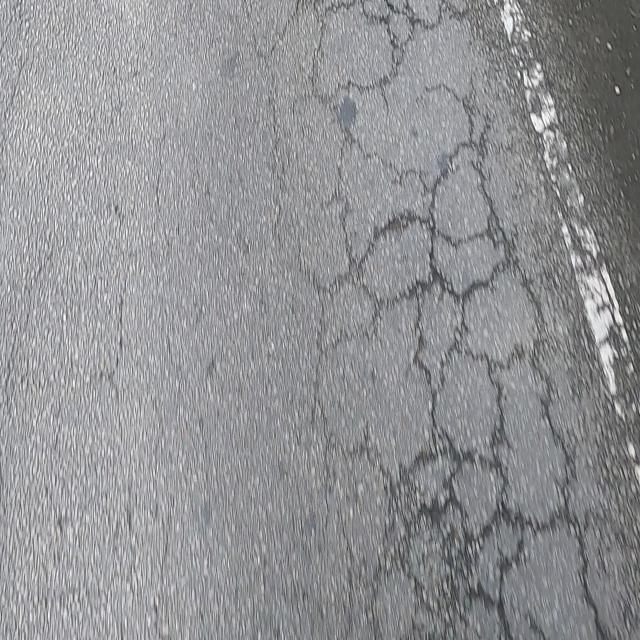Retak-Buaya: (310, 1, 613, 638)
